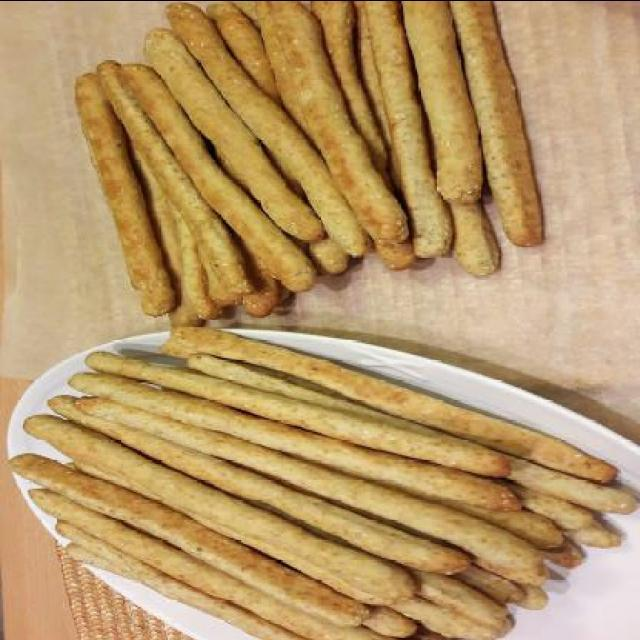Grissini: (11, 326, 617, 629), (73, 3, 544, 312)
